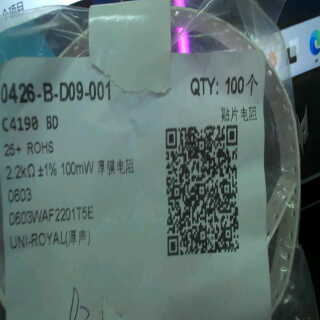2.2kR: (1, 161, 38, 183)
